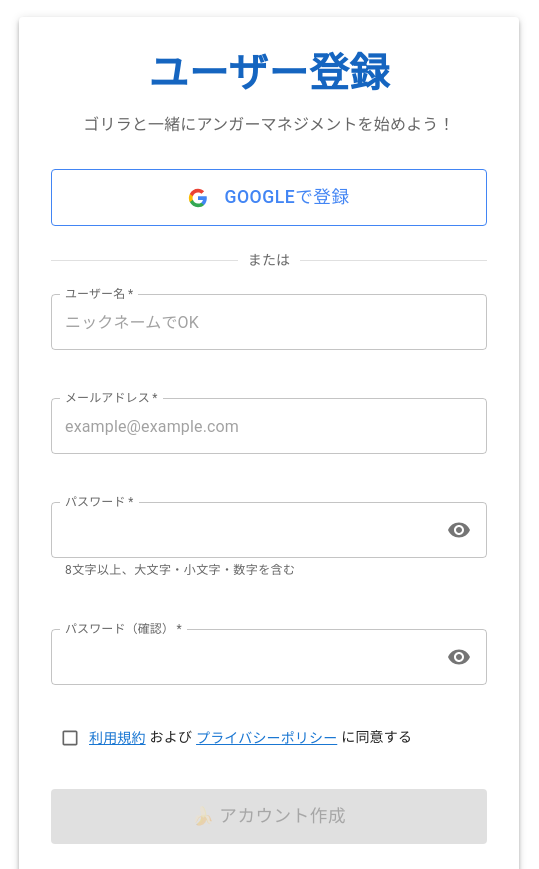
Test: RegisterForm › ユーザーインタラクション › 利用規約に同意すると登録ボタンが有効になる
The width and height of the screenshot is (539, 869).
Expected: the button "🍌 アカウント作成" is disabled, [51,789,487,844]
Click the checkbox: x=232, y=742 [51,727,412,757]
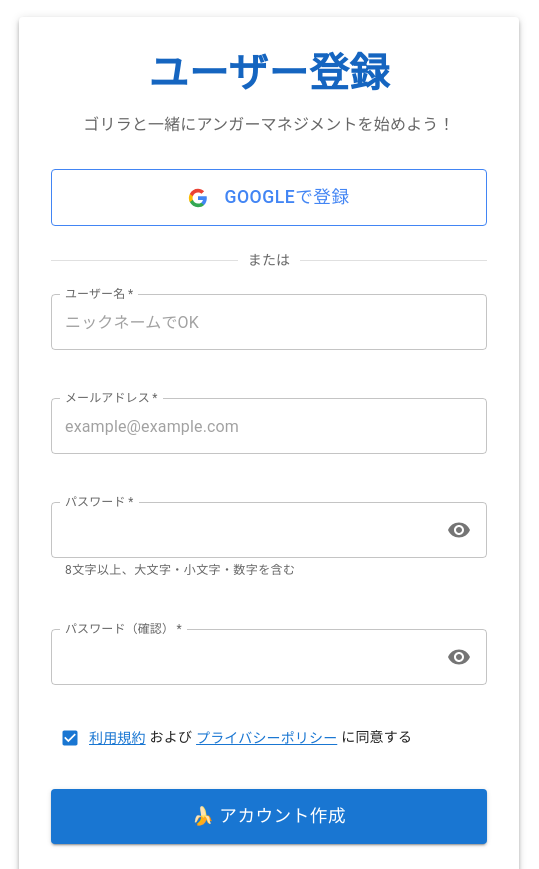
Now the button "🍌 アカウント作成" is enabled, box [51,789,487,844]
